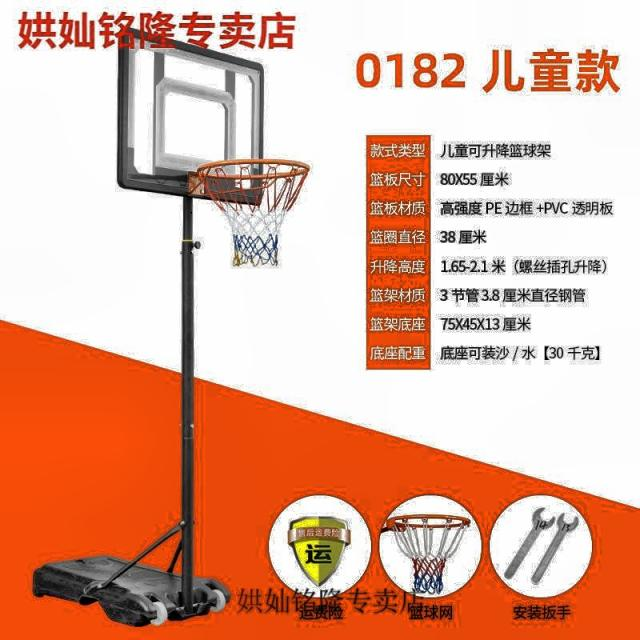rim: (200, 158, 311, 265)
